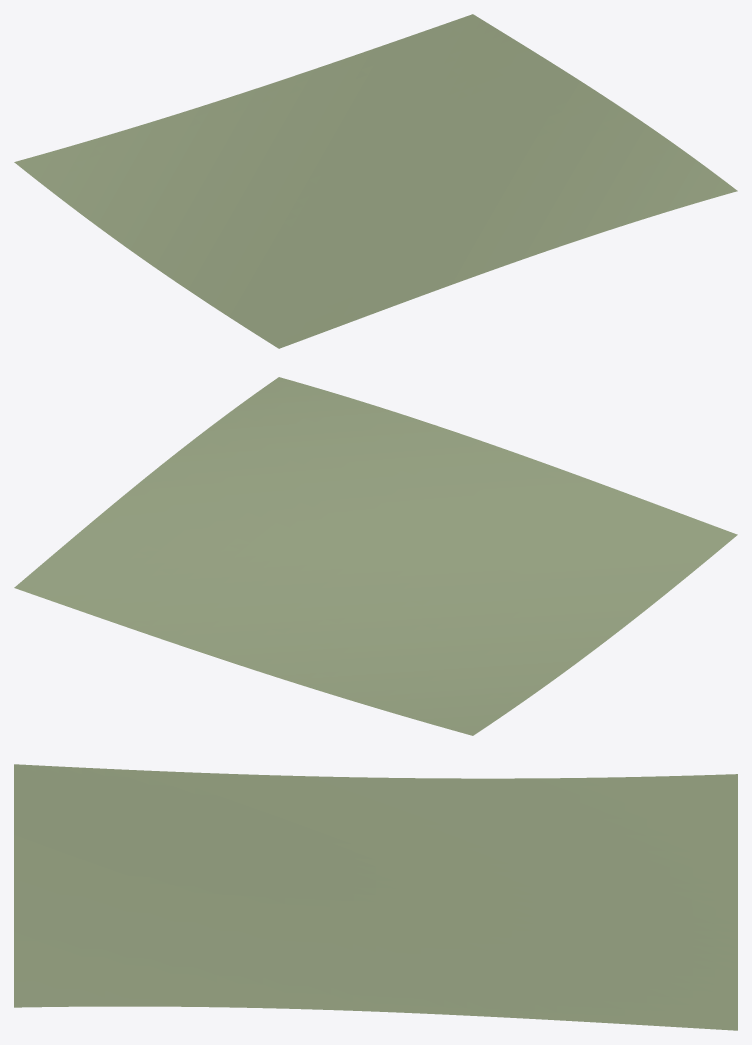
The model's file is alpine-4-15.glb.
3 renders of one model, top to bottom at view 1: azimuth 30°, elevation 25°; view 2: azimuth 150°, elevation 25°; view 3: azimuth 270°, elevation 25°, orthographic. The views are drawn at different scales.
Parts seen in each view (by area): view 1: alpine-4-15; view 2: alpine-4-15; view 3: alpine-4-15.
Part boxes in pixels (bbox=[...]): alpine-4-15: bbox=[14, 14, 737, 348]; alpine-4-15: bbox=[14, 377, 737, 735]; alpine-4-15: bbox=[14, 764, 737, 1030].
Size of the model in its own units: 256 by 30.43 by 256.
